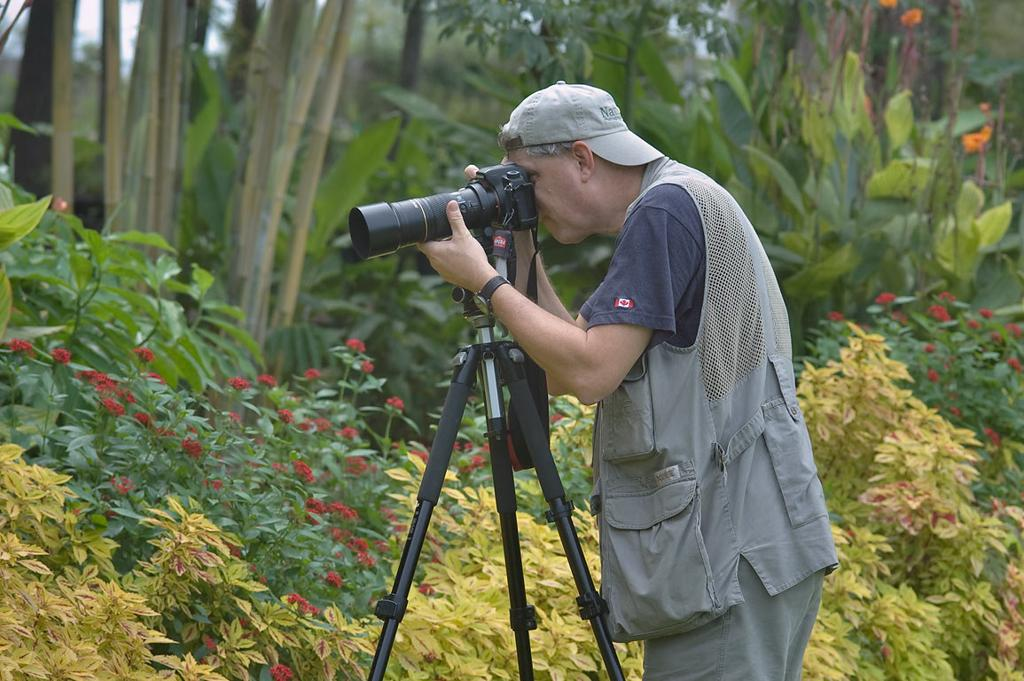face: (498, 144, 578, 250)
